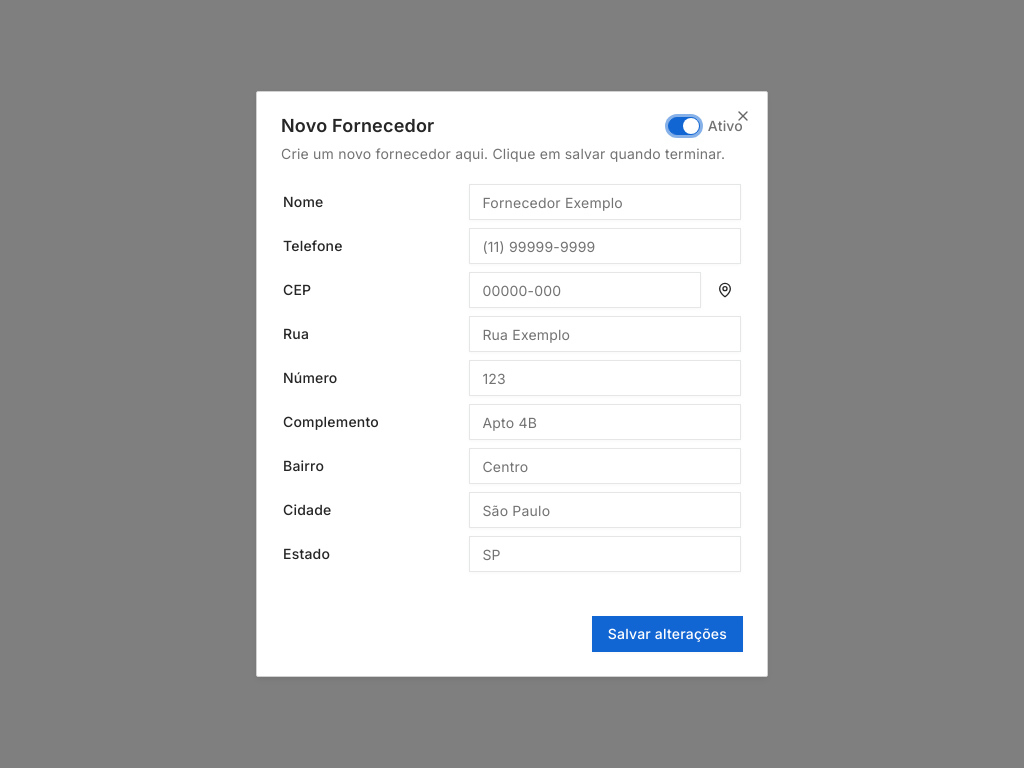
Test: VendorsActionDialog › validates required fields before submitting
The width and height of the screenshot is (1024, 768).
Click the button "Salvar alterações". click: {"x": 667, "y": 634}
box: [592,616,743,652]
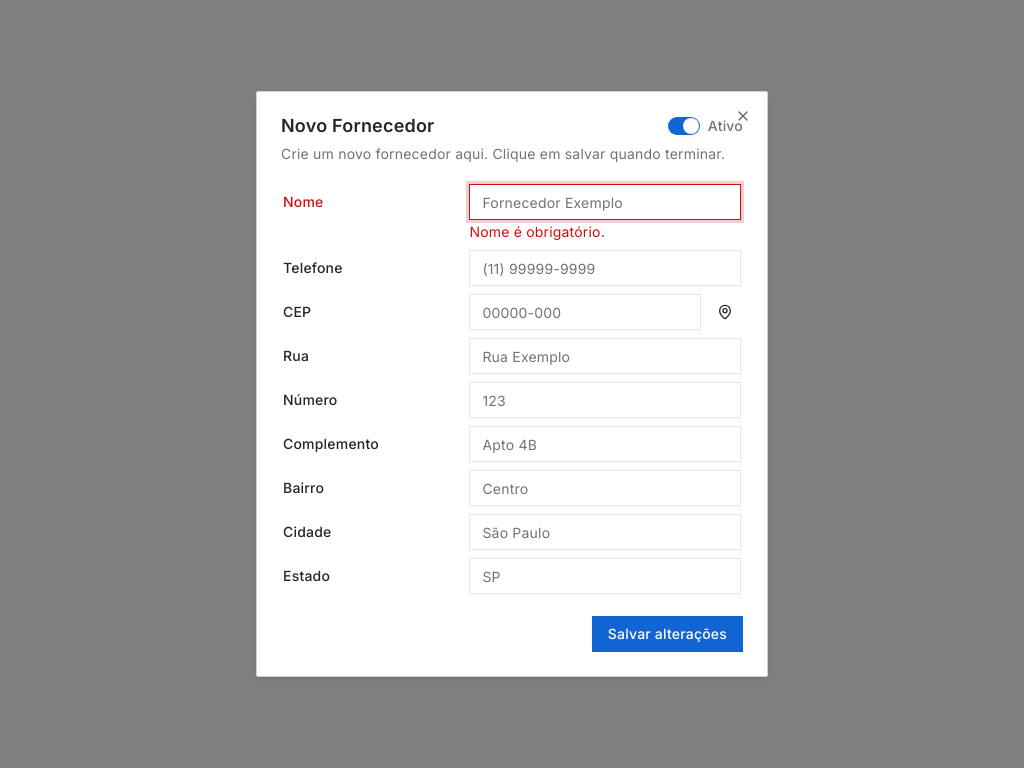
expect the text "Nome é obrigatório." is shown: met, box [469,223,605,240]
